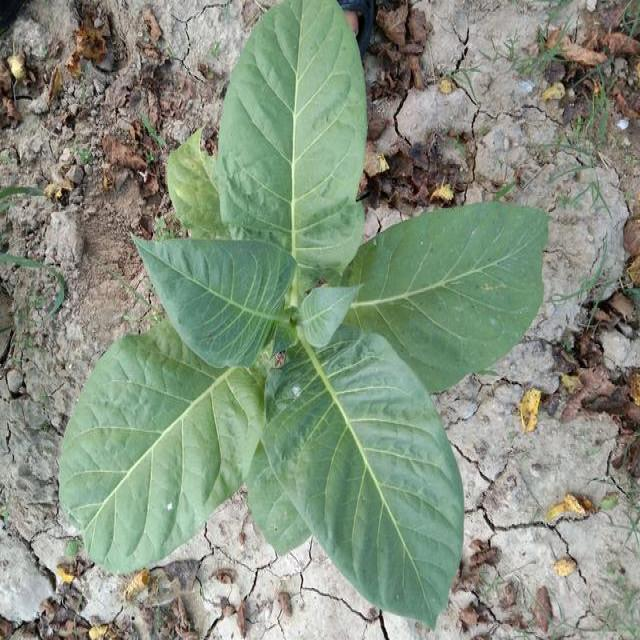crop: (58, 0, 543, 617)
